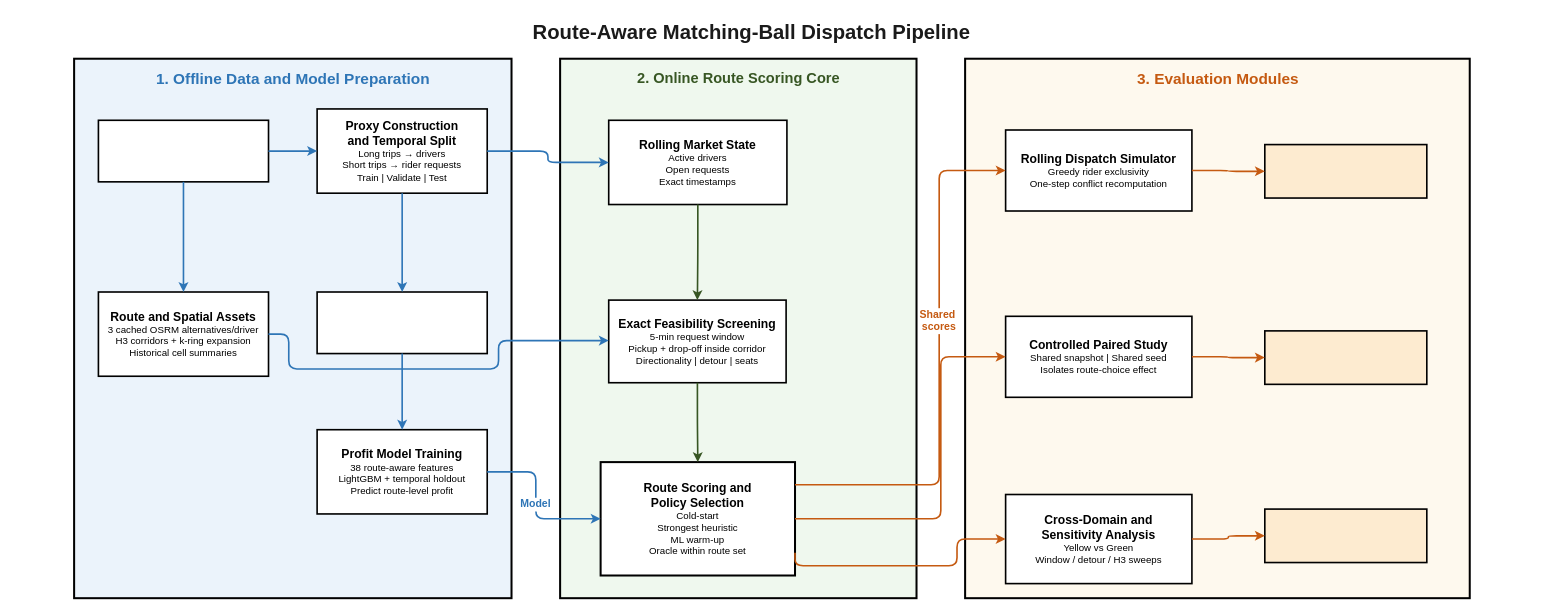
Some shapes in this 1555 by 613 pixel diagram are drawn without their labels. The shapes that lost their labels are listed below. From the top down, each one's centre as x and y in pixels, then its label:
At [183,150]: "NYC Taxi Domains Yellow | Green".
At [1345,170]: "System-Level Dispatch Results".
At [402,322]: "Route-Ranking Screening ML warm-up | Oracle".
At [1345,357]: "Controlled Single-Driver Results".
At [1345,535]: "Cross-Domain Robustness Results".
